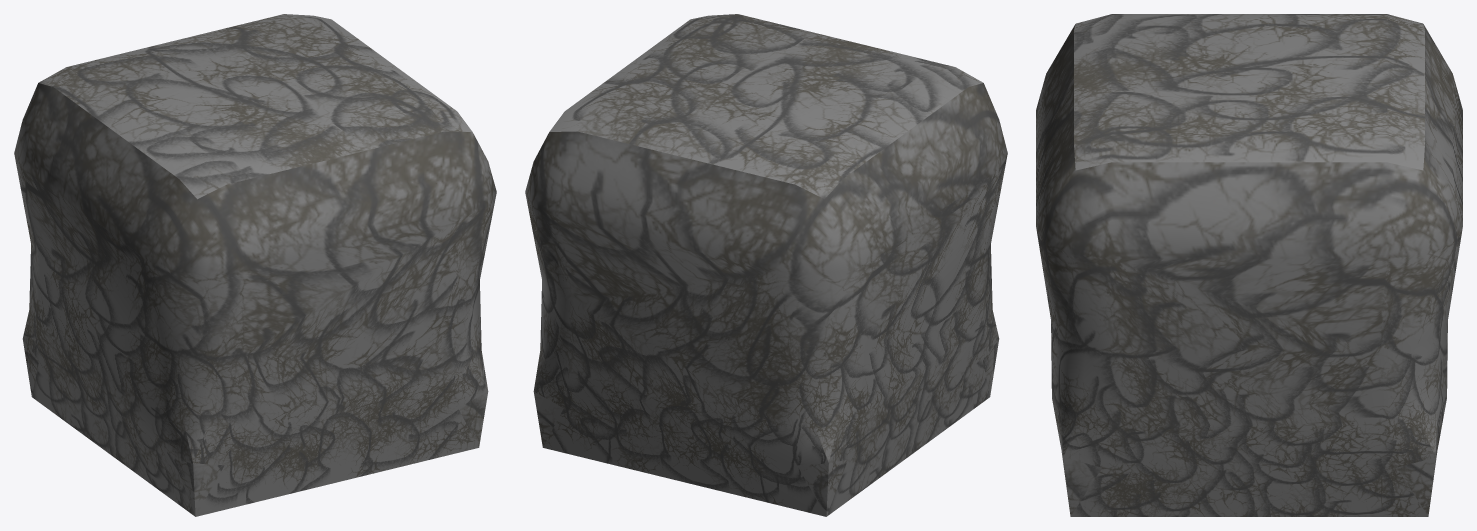
Rendered from blockCobblestone.obj.
The picture shows the model from 3 angles, left to right: view 1: azimuth 30°, elevation 25°; view 2: azimuth 150°, elevation 25°; view 3: azimuth 270°, elevation 25°; orthographic projection. The views are drawn at different scales.
Visible parts, largest first — view 1: blockCobblestone; view 2: blockCobblestone; view 3: blockCobblestone.
Part boxes in pixels (x1,y1,x2,y2): blockCobblestone: (14,14,496,516); blockCobblestone: (525,14,1007,516); blockCobblestone: (1036,14,1462,516).
Size of the model in its own units: 1.08 by 1.01 by 1.08.
